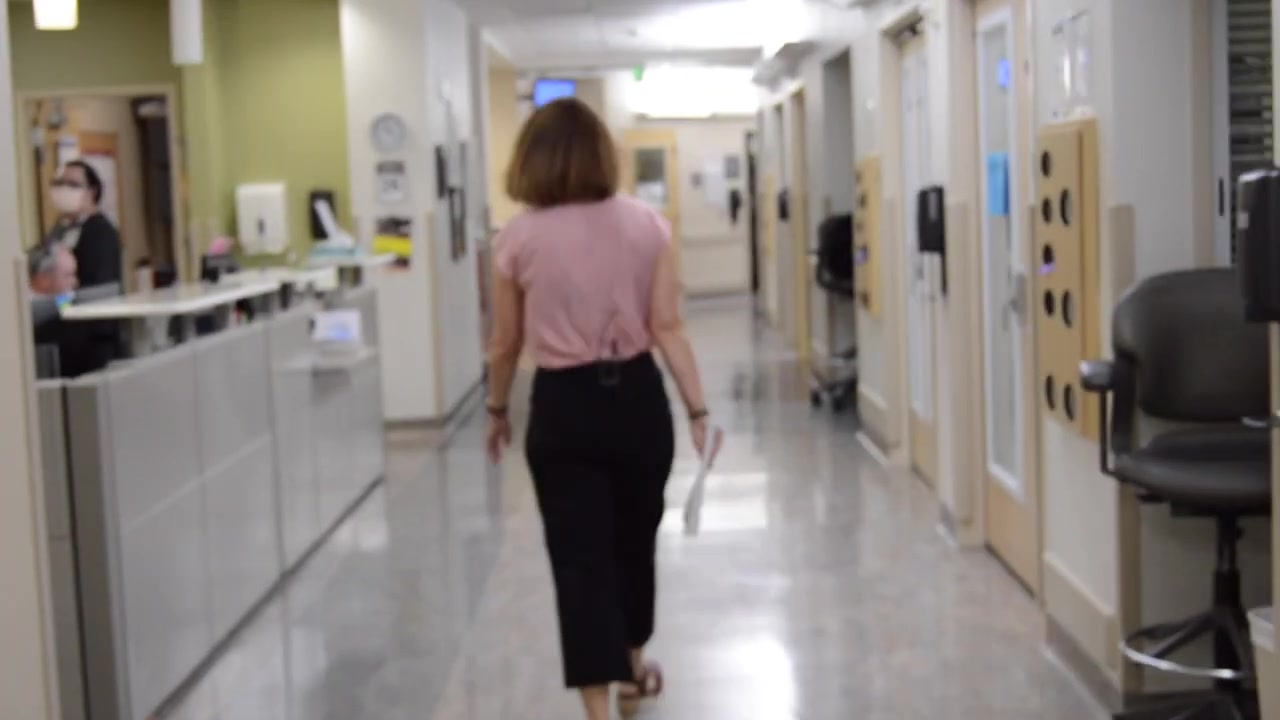chair: (1077, 265, 1275, 720), (805, 211, 859, 413)
countertop: (69, 263, 340, 324)
dispenser: (1228, 166, 1280, 325), (233, 180, 291, 256), (913, 181, 951, 296)
door_handle: (997, 266, 1030, 338)
person: (481, 94, 727, 720)
staff: (26, 161, 123, 292), (24, 243, 79, 296)
waste_bin: (1244, 600, 1280, 720)
